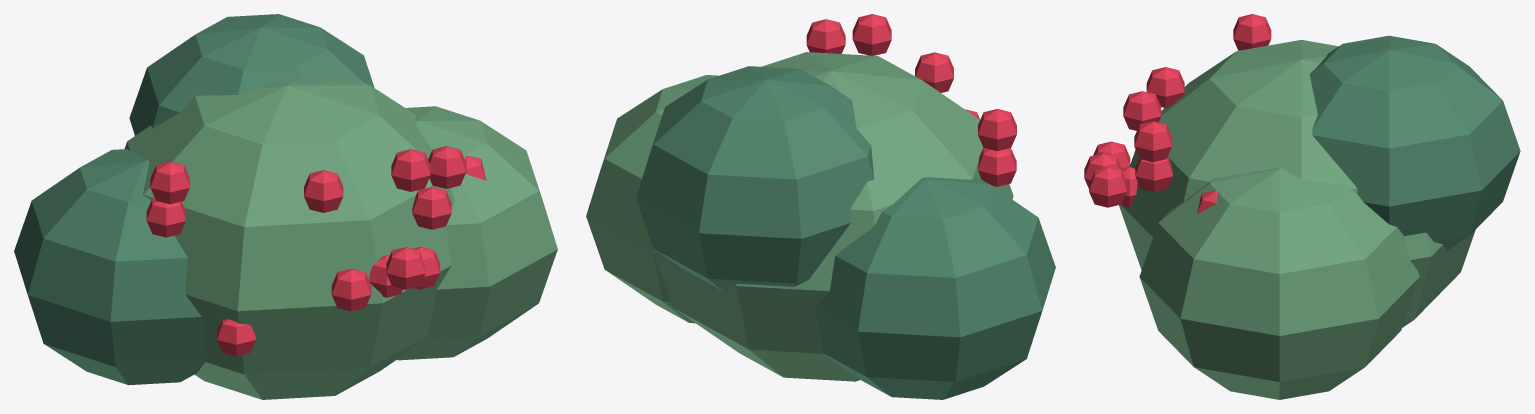
Rendered from berry_bush.glb.
3 renders of one model, left to right at view 1: azimuth 30°, elevation 25°; view 2: azimuth 150°, elevation 25°; view 3: azimuth 270°, elevation 25°, orthographic. The views are drawn at different scales.
Parts seen in each view (by area): view 1: leaf0, leaf1, leaf2, leaf3, berry10, berry9, berry11, berry8, berry4, berry3, berry5, berry6 (+3 smaller); view 2: leaf3, leaf1, leaf0, leaf2, berry11, berry9, berry6, berry8, berry5; view 3: leaf2, leaf3, leaf0, berry5, berry13, berry8, berry9, berry11, berry4, berry3, berry10, berry0.
Boxes of the visible parts, <box> form: leaf0: <box>124,80,454,399</box>; leaf1: <box>14,149,205,385</box>; leaf2: <box>397,106,557,360</box>; leaf3: <box>129,14,374,135</box>; berry10: <box>331,269,371,311</box>; berry9: <box>150,161,189,204</box>; berry11: <box>391,149,430,191</box>; berry8: <box>304,170,343,212</box>; berry4: <box>412,187,451,229</box>; berry3: <box>386,247,425,289</box>; berry5: <box>428,146,466,188</box>; berry6: <box>146,197,185,237</box>; leaf3: <box>636,66,874,291</box>; leaf1: <box>815,176,1055,399</box>; leaf0: <box>648,52,1013,381</box>; leaf2: <box>586,75,718,323</box>; berry11: <box>852,14,891,55</box>; berry9: <box>978,109,1016,150</box>; berry6: <box>978,148,1016,186</box>; berry8: <box>915,52,953,92</box>; berry5: <box>806,19,845,53</box>; leaf2: <box>1139,168,1419,399</box>; leaf3: <box>1309,35,1520,250</box>; leaf0: <box>1119,39,1475,327</box>; berry5: <box>1134,121,1172,162</box>; berry13: <box>1089,167,1126,207</box>; berry8: <box>1146,67,1184,107</box>; berry9: <box>1233,14,1271,50</box>; berry11: <box>1123,91,1161,130</box>; berry4: <box>1135,156,1173,191</box>; berry3: <box>1084,153,1121,188</box>; berry10: <box>1093,141,1130,168</box>; berry0: <box>1119,166,1137,207</box>.
Bounding box in the file's own units: 1.22 × 0.762 × 0.9958.
